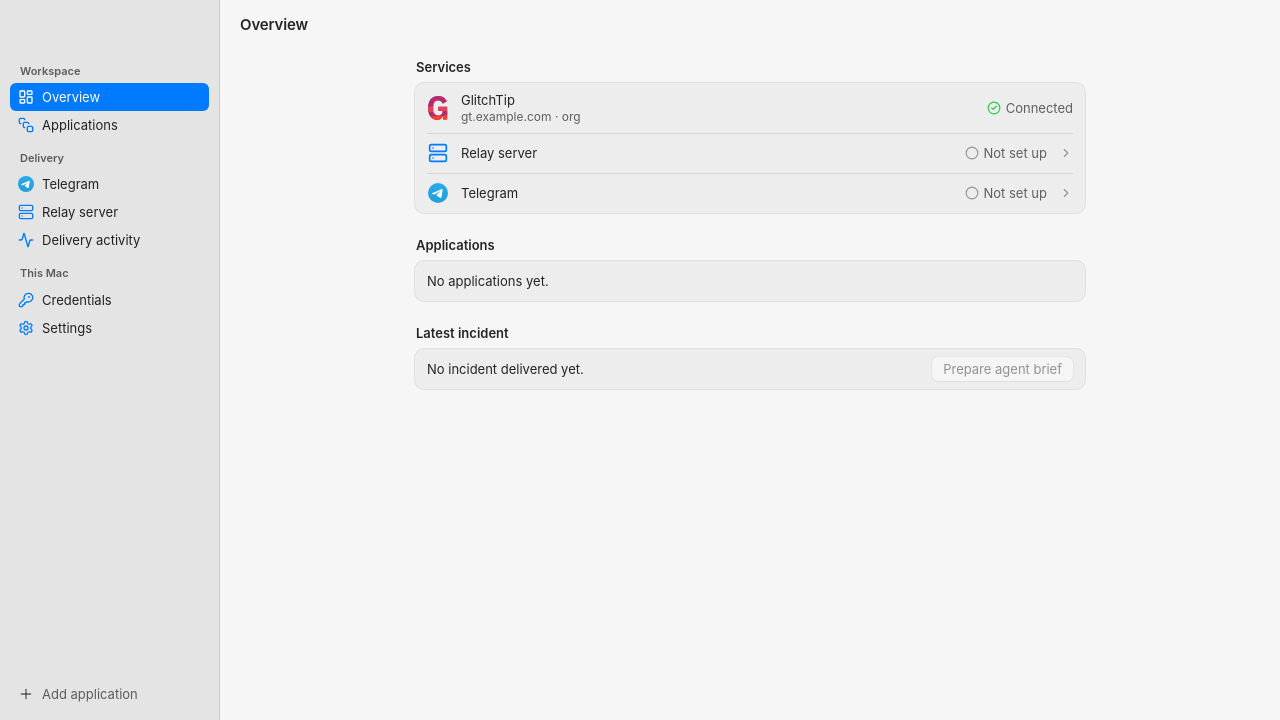
Test case: dashboard navigation › never renders stored credential values
Step 1. Click the button "Credentials" → (110, 300), box [10,286,209,314]
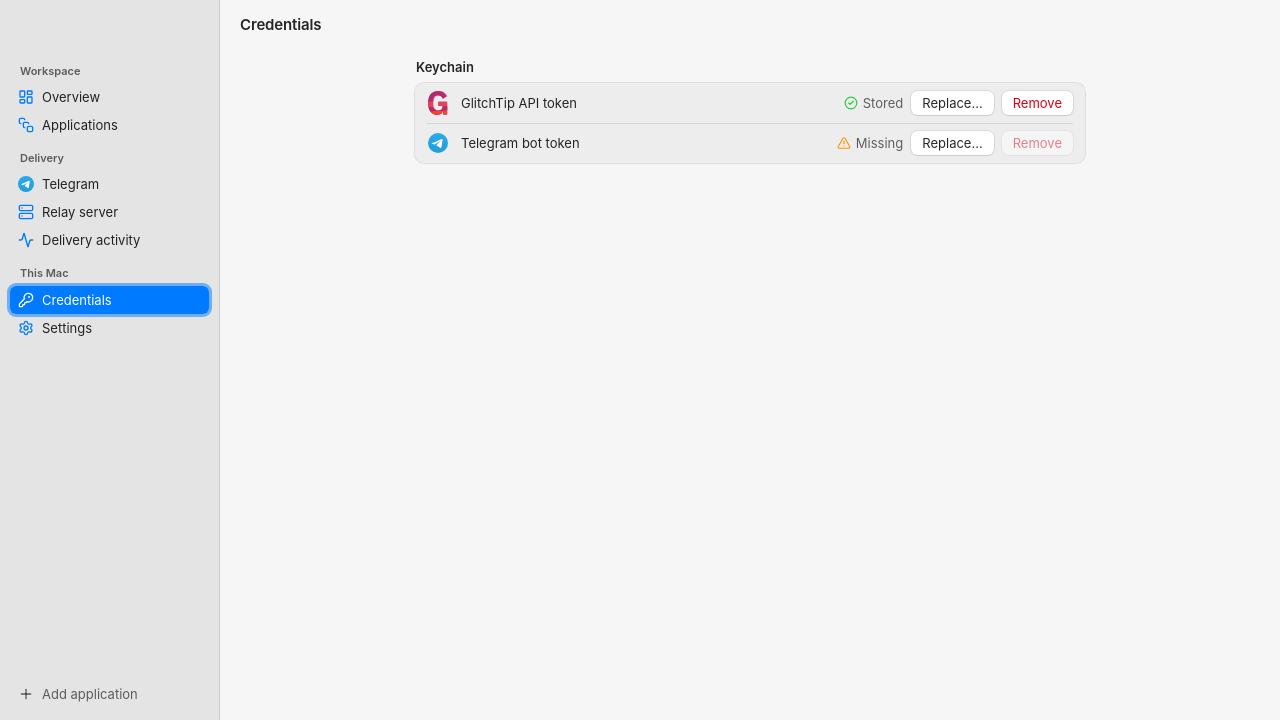
Expected: the text "Stored" is shown, [844,94,903,112]
